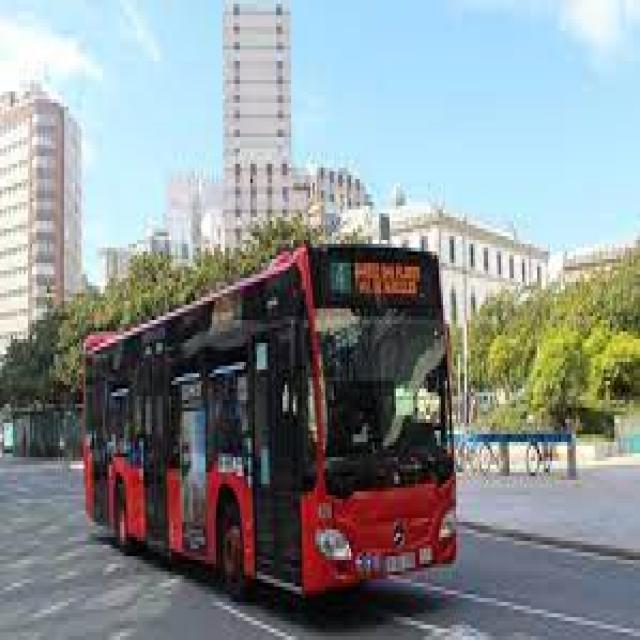BUS: (84, 242, 463, 596)
